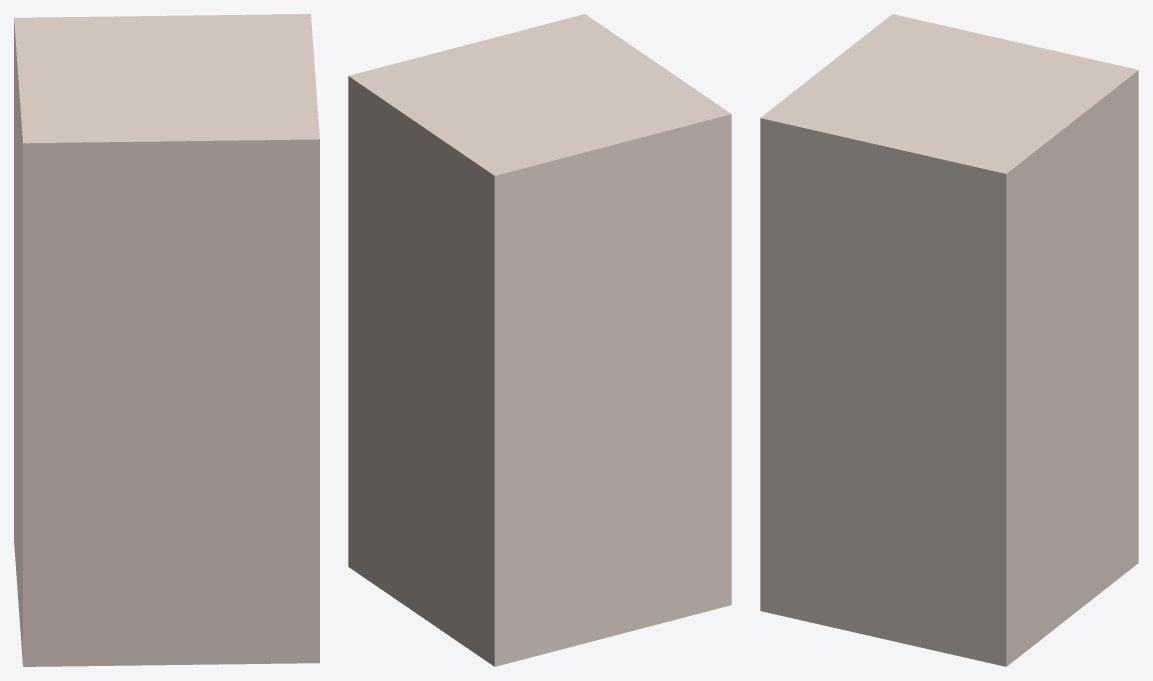
The model's file is Bathroom_Shampoo_2.fbx.
3 views of the same model, side by side, from view 1: azimuth 30°, elevation 25°; view 2: azimuth 150°, elevation 25°; view 3: azimuth 270°, elevation 25° (orthographic). The views are drawn at different scales.
Visible parts, largest first — view 1: Bathroom_Shampoo_2; view 2: Bathroom_Shampoo_2; view 3: Bathroom_Shampoo_2.
Part boxes in pixels (left/top/right/bottom): Bathroom_Shampoo_2: left=14, top=14, right=319, bottom=666; Bathroom_Shampoo_2: left=348, top=14, right=731, bottom=666; Bathroom_Shampoo_2: left=760, top=14, right=1138, bottom=666.
Size of the model in its own units: 21.51 by 30.9 by 21.51.
